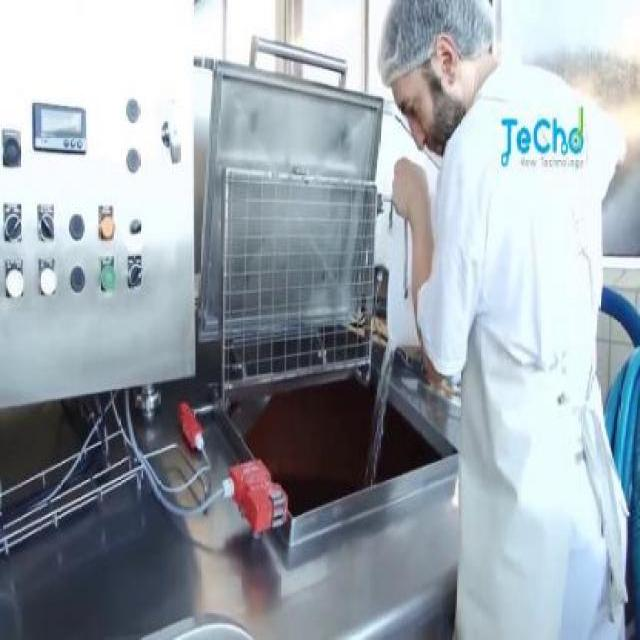hairnet: (377, 0, 484, 50)
